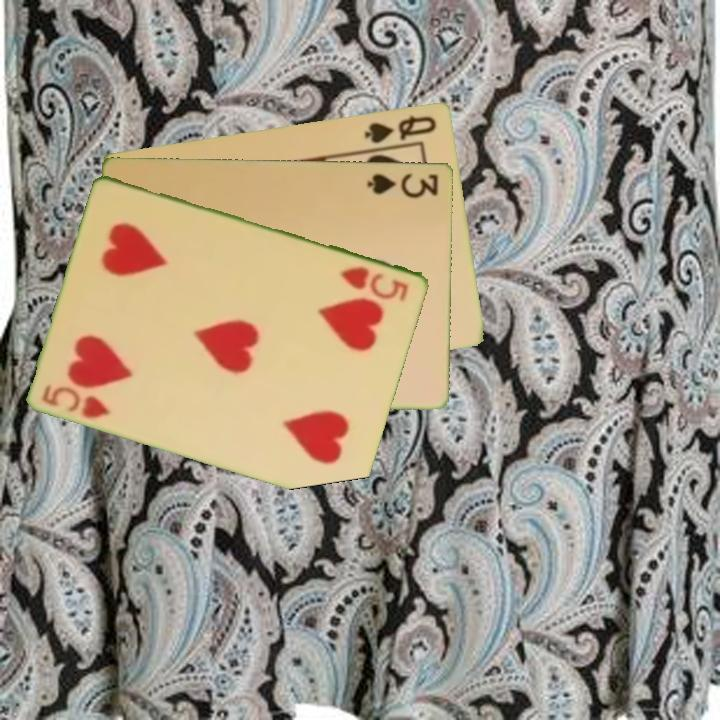3s: (364, 169, 442, 200)
5h: (38, 380, 115, 421), (337, 262, 412, 304)
Qs: (361, 111, 440, 146)
